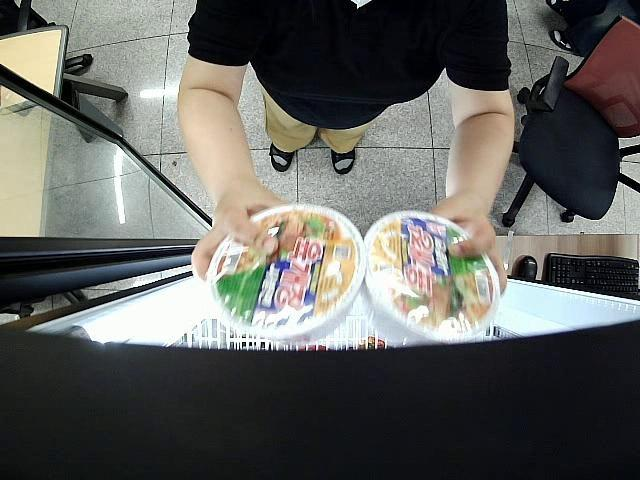09_yukGaeJang: (210, 204, 366, 340), (366, 209, 499, 344)
